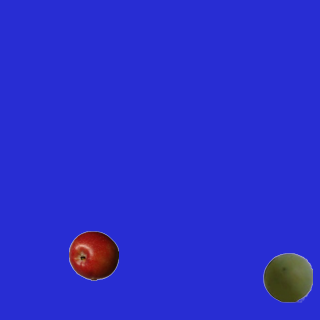Apple Braeburn: (68, 230, 118, 280)
Grape White 4: (262, 252, 312, 302)
